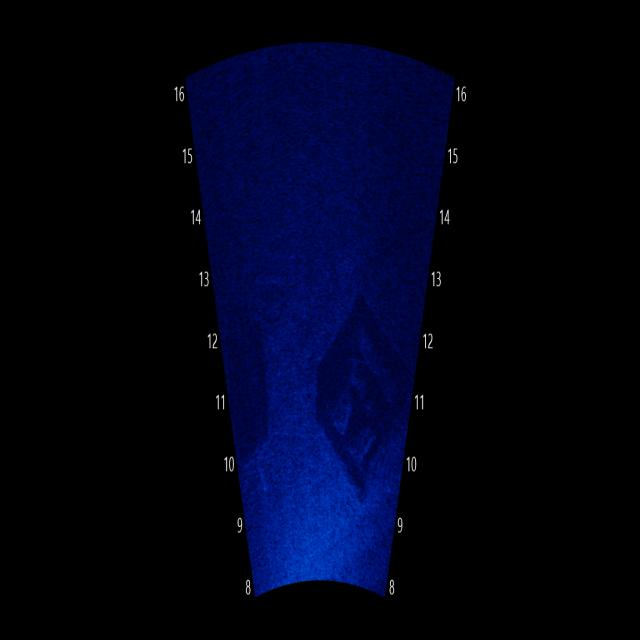square: (306, 306, 416, 492), (223, 308, 284, 479)
